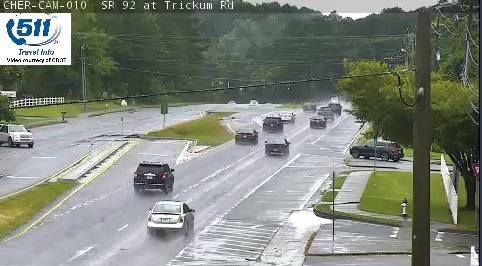car: (147, 201, 193, 229), (133, 162, 173, 189), (265, 137, 289, 154), (235, 129, 258, 145), (263, 116, 282, 132), (309, 115, 326, 127), (317, 108, 334, 119), (278, 110, 294, 121)
